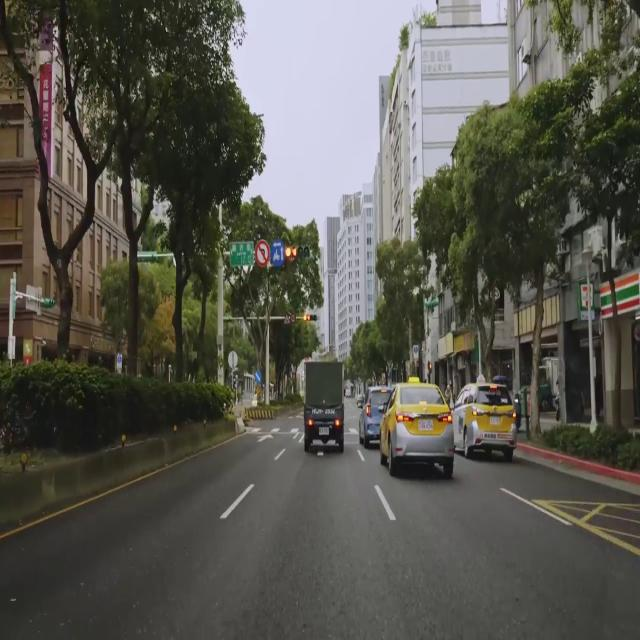red light: (284, 246, 310, 258), (303, 313, 317, 322)
